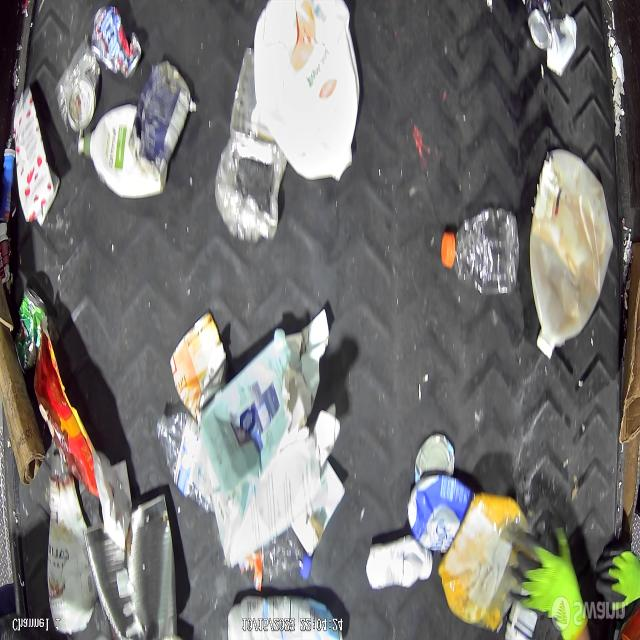can: (91, 480, 182, 640), (127, 49, 195, 182), (168, 302, 232, 424), (85, 0, 143, 81), (53, 44, 100, 140), (515, 0, 563, 56)
milk_jug: (250, 0, 359, 197), (525, 146, 616, 361)
plastic_bottle: (438, 194, 526, 300), (155, 411, 215, 518), (254, 521, 318, 595)
